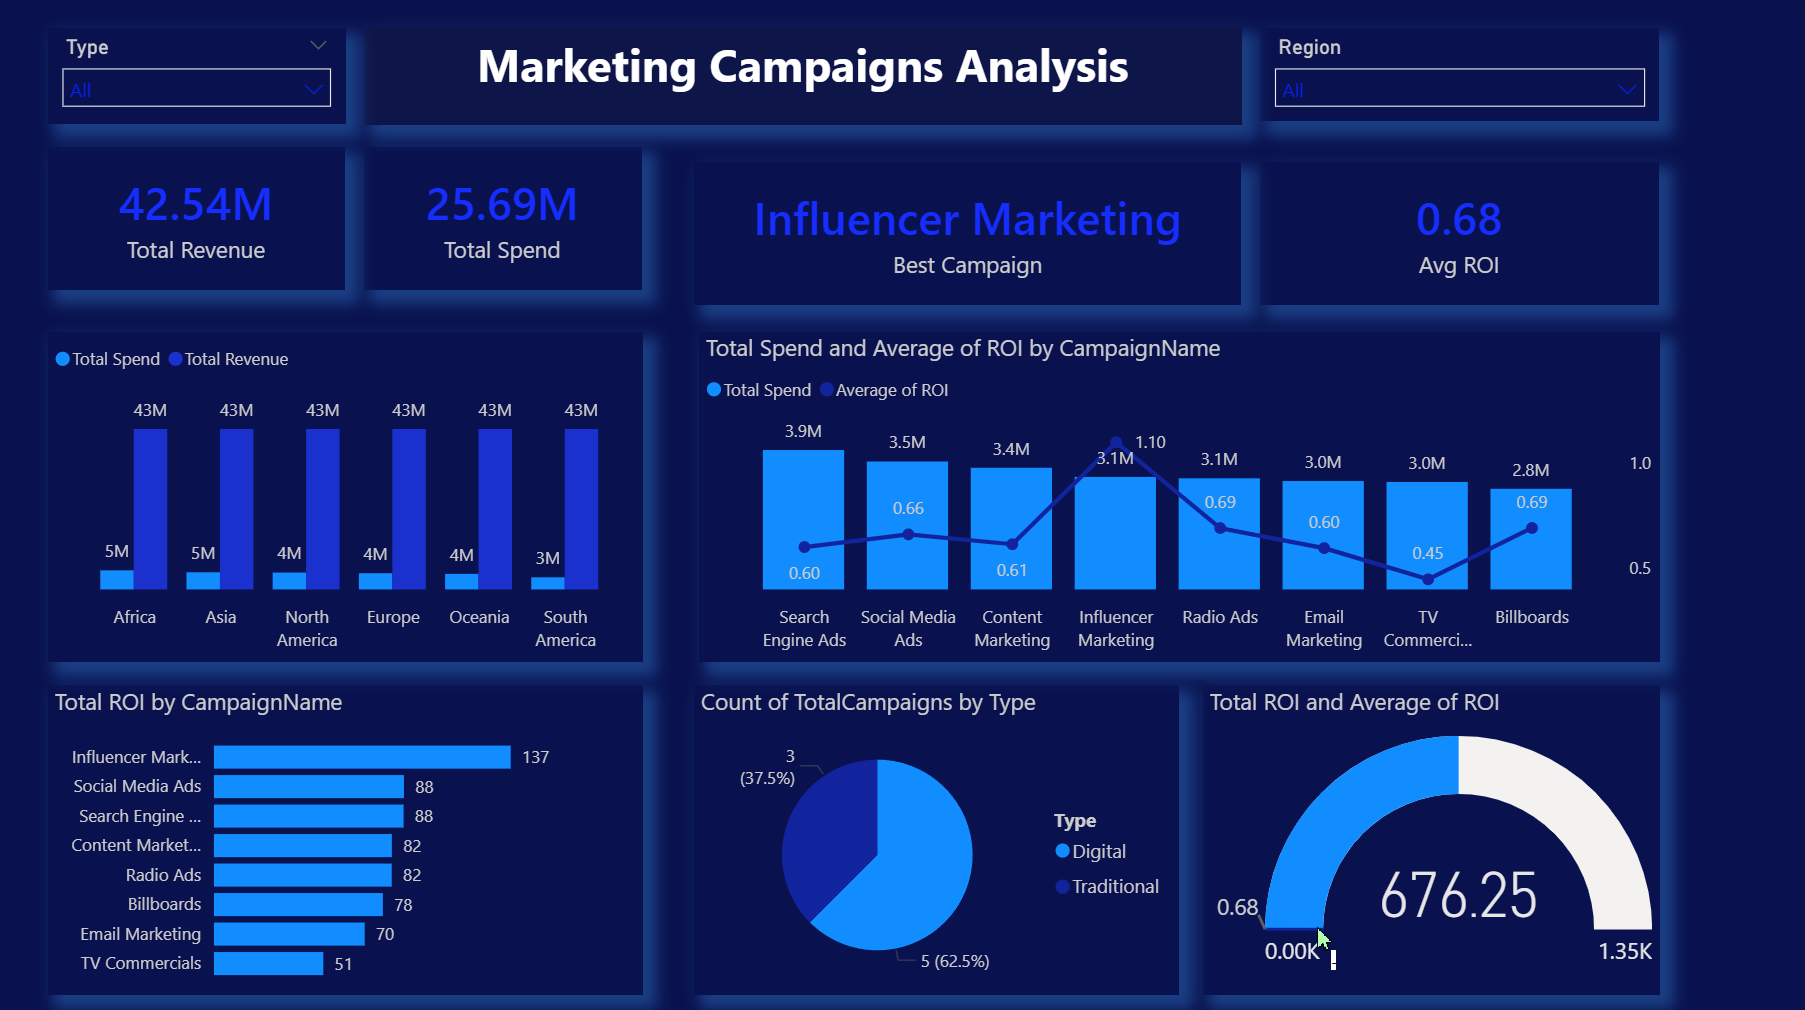

What the dashboard file says about the page in this screenshot:
{"tool":"powerbi","page":{"name":"Page 1","canvas":[1280,720],"ordinal":0},"visuals":[{"type":"cardVisual","fields":{"Data":["KPI.Avg ROI"]},"box":[894.1,115.1,282.8,101.4],"z":1000},{"type":"cardVisual","fields":{"Data":["KPI.Best Campaign"]},"box":[492.4,115.1,388.1,101.4],"z":2000},{"type":"cardVisual","fields":{"Data":["KPI.Total Revenue"]},"box":[34.1,104.3,210.6,101.4],"z":3000},{"type":"cardVisual","fields":{"Data":["KPI.Total Spend"]},"box":[258.4,104.3,197,101.4],"z":4000},{"type":"clusteredColumnChart","fields":{"Category":["marketing campaign performance.Region"],"Y":["KPI.Total Spend","KPI.Total Revenue"]},"box":[34.1,236,421.2,234],"z":5000},{"type":"lineClusteredColumnComboChart","fields":{"Category":["marketing campaign performance.CampaignName"],"Y":["KPI.Total Spend"],"Y2":["Avg(marketing campaign performance.ROI)"]},"box":[496.3,236,680.6,234],"z":6000},{"type":"clusteredBarChart","fields":{"Category":["marketing campaign details.CampaignName"],"Y":["KPI.Total ROI"]},"box":[34.1,486.5,421.2,219.4],"z":7000},{"type":"pieChart","fields":{"Category":["marketing campaign details.Type"],"Y":["CountNonNull(marketing campaign details.TotalCampaigns)"]},"box":[492.4,486.5,344.2,219.4],"z":8000},{"type":"textbox","box":[258.4,19.5,622.1,69.2],"z":9000},{"type":"gauge","fields":{"Y":["KPI.Total ROI"],"TargetValue":["Avg(marketing campaign performance.ROI)"]},"box":[853.1,486.5,323.7,219.4],"z":10000},{"type":"slicer","fields":{"Values":["region performance.Region"]},"box":[893.9,20.4,282.6,66.4],"z":10001},{"type":"slicer","fields":{"Values":["marketing campaign details.Type"]},"box":[34.6,20.4,210.9,68.2],"z":10002}]}

Visuals, with their boxes in screenshot pixels (x1, y1, x2, y2), scaled from the page's 1280x720 canvas onto the 1805x1010 screenshot:
cardVisual - KPI.Avg ROI: l=1261, t=161, r=1660, b=304
cardVisual - KPI.Best Campaign: l=694, t=161, r=1242, b=304
cardVisual - KPI.Total Revenue: l=48, t=146, r=345, b=289
cardVisual - KPI.Total Spend: l=364, t=146, r=642, b=289
clusteredColumnChart - marketing campaign performance.Region x KPI.Total Spend: l=48, t=331, r=642, b=659
lineClusteredColumnComboChart - marketing campaign performance.CampaignName x KPI.Total Spend: l=700, t=331, r=1660, b=659
clusteredBarChart - marketing campaign details.CampaignName x KPI.Total ROI: l=48, t=682, r=642, b=990
pieChart - marketing campaign details.Type x CountNonNull(marketing campaign details.TotalCampaigns): l=694, t=682, r=1180, b=990
textbox: l=364, t=27, r=1242, b=124
gauge - KPI.Total ROI x Avg(marketing campaign performance.ROI): l=1203, t=682, r=1659, b=990
slicer - region performance.Region: l=1261, t=29, r=1659, b=122
slicer - marketing campaign details.Type: l=49, t=29, r=346, b=124
